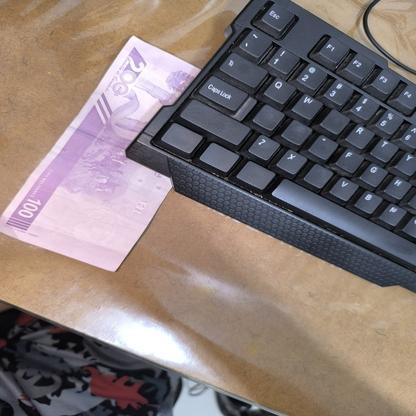one_hundred-back-vef: (0, 33, 202, 274)
